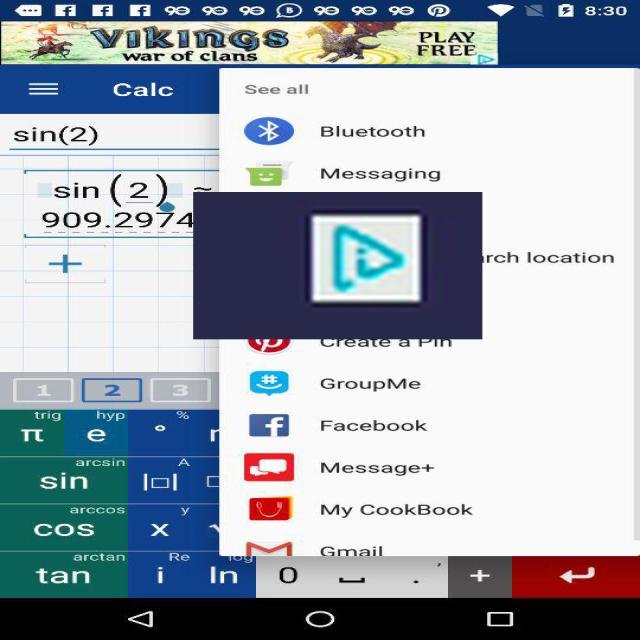sneaking: (193, 192, 482, 339)
